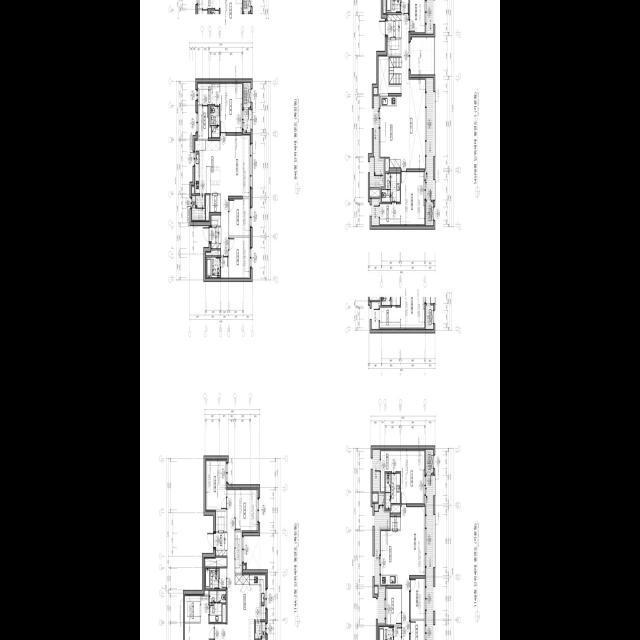background: (140, 0, 500, 640)
space_balconi: (374, 495, 390, 624), (426, 475, 434, 640), (370, 95, 383, 187), (426, 77, 434, 200), (411, 36, 434, 74), (192, 195, 205, 219), (373, 449, 380, 491), (427, 0, 433, 33), (255, 621, 265, 640), (372, 198, 379, 225), (244, 109, 251, 132)
space_bedroom: (185, 595, 214, 640), (401, 449, 425, 503), (401, 171, 425, 224), (206, 459, 226, 509), (235, 488, 258, 530), (229, 237, 250, 277), (229, 199, 250, 235), (411, 578, 425, 619), (386, 588, 401, 624), (410, 0, 425, 32)
space_dressroom: (381, 449, 401, 493), (380, 203, 401, 224), (185, 595, 200, 621), (198, 83, 212, 104)
space_front: (210, 215, 220, 248), (388, 14, 401, 37), (215, 532, 227, 555)
space_kitchen: (380, 96, 400, 167), (235, 574, 265, 619), (195, 140, 220, 193), (381, 530, 401, 584)
space_living_room: (215, 488, 254, 640), (401, 14, 425, 168), (220, 135, 250, 256), (401, 506, 425, 640)
space_other: (212, 83, 242, 132), (379, 56, 401, 93), (389, 56, 401, 84), (198, 105, 208, 138), (235, 532, 242, 573), (411, 620, 425, 640), (215, 511, 226, 531), (388, 39, 401, 54), (205, 557, 226, 566), (210, 195, 220, 211), (220, 257, 228, 277), (220, 568, 227, 588), (390, 516, 400, 529), (401, 0, 409, 13), (394, 626, 401, 640), (390, 504, 400, 512), (206, 195, 209, 220), (206, 250, 220, 255), (370, 189, 380, 196), (209, 105, 211, 137), (385, 158, 389, 171), (373, 493, 378, 501), (383, 0, 386, 12), (374, 586, 378, 593), (374, 87, 377, 94), (204, 590, 209, 594), (192, 186, 194, 193), (244, 565, 245, 569)
space_outdoor_room: (243, 82, 251, 107), (426, 201, 433, 225), (426, 449, 433, 473)
space_toilet: (385, 473, 400, 508), (210, 590, 226, 622), (382, 173, 400, 201), (205, 568, 219, 588), (210, 106, 219, 137), (207, 257, 220, 277), (379, 626, 393, 640), (387, 0, 400, 12)
